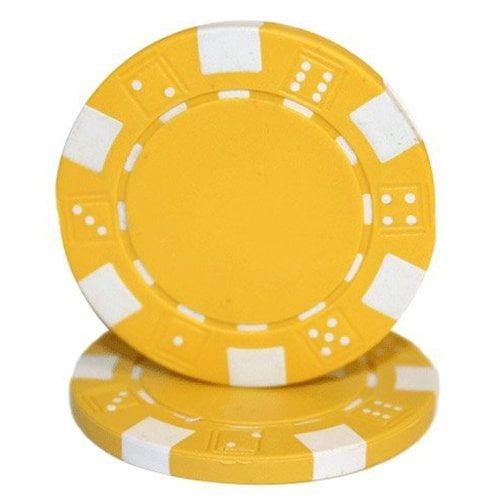chip-yellow: (57, 21, 435, 386), (70, 332, 438, 483)
